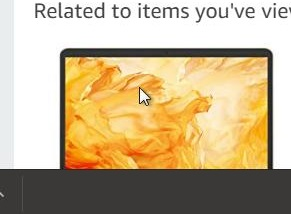cursor: (138, 86, 151, 107)
